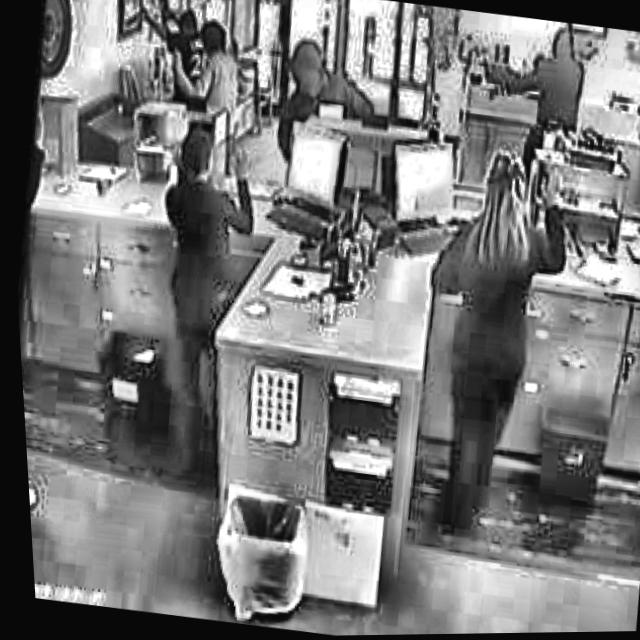robbery: (421, 143, 585, 287), (261, 34, 391, 179), (478, 21, 594, 170), (146, 119, 272, 247), (122, 0, 250, 111)
